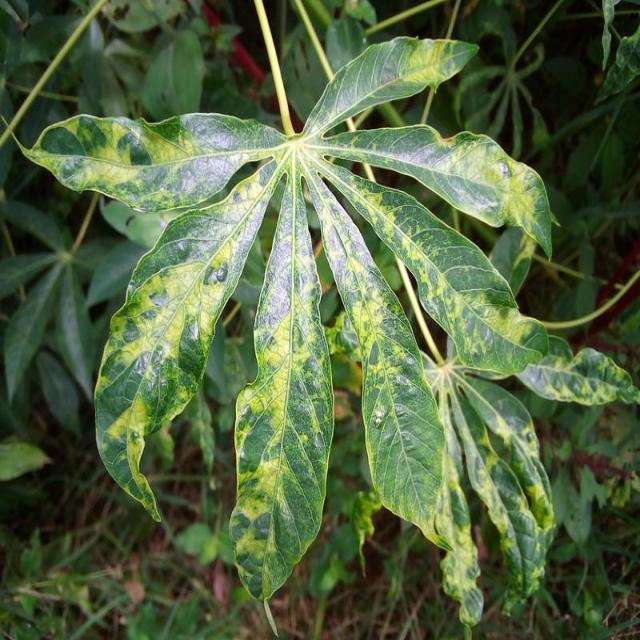cassava leaf: (9, 9, 634, 630), (228, 154, 334, 604)
